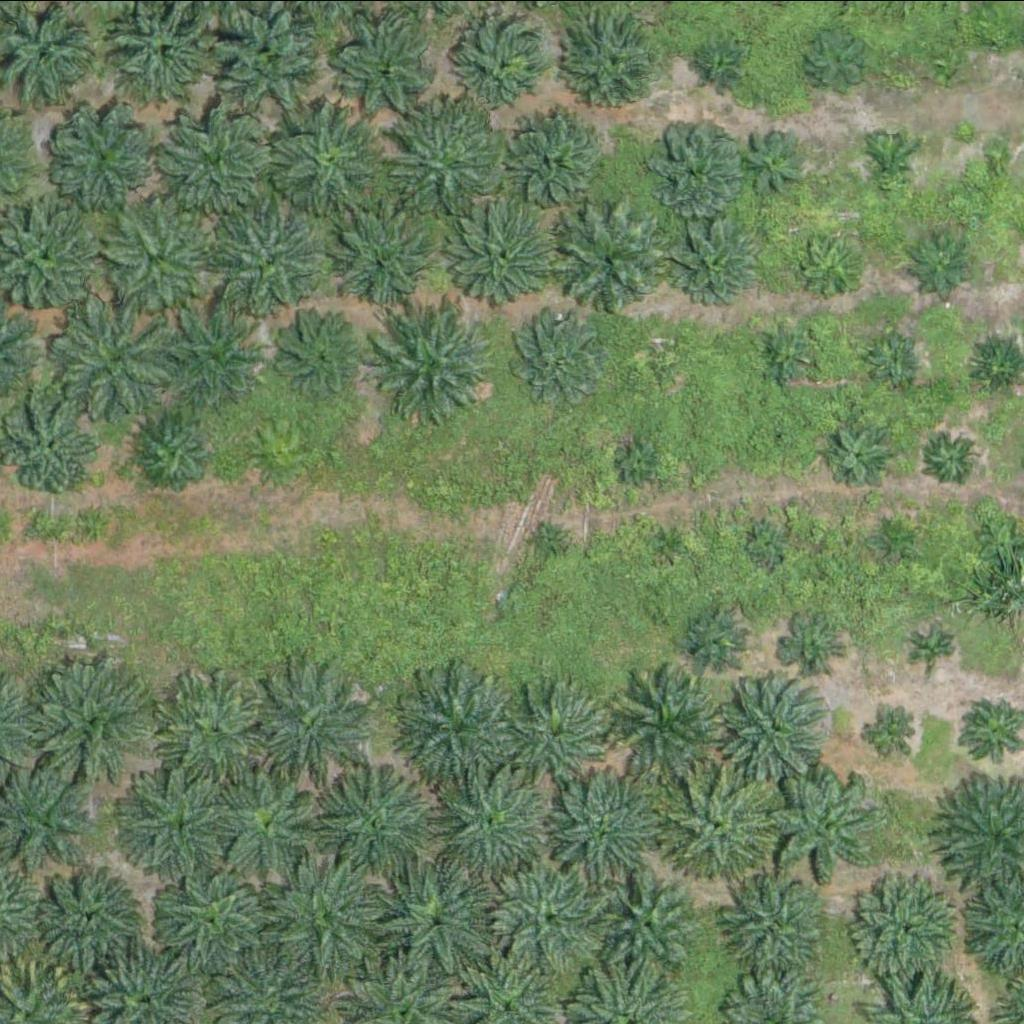Kelapa_Sawit: (23, 661, 149, 786), (49, 299, 175, 424), (115, 760, 241, 885), (151, 853, 277, 978), (153, 666, 279, 791), (274, 856, 400, 981), (377, 862, 503, 987), (499, 854, 625, 979), (550, 767, 676, 892), (436, 759, 562, 884), (315, 764, 441, 889), (253, 662, 379, 787), (398, 666, 524, 791), (618, 655, 744, 780), (369, 306, 495, 431), (384, 94, 509, 219), (42, 98, 155, 211), (552, 207, 665, 320), (157, 103, 270, 216), (270, 103, 383, 216), (208, 5, 321, 118), (765, 765, 878, 878), (851, 876, 964, 989), (108, 199, 221, 311), (159, 298, 272, 410), (215, 203, 328, 315), (448, 201, 561, 313), (725, 669, 838, 781), (660, 765, 773, 877), (34, 871, 135, 971), (513, 680, 614, 780), (508, 310, 609, 410), (336, 207, 437, 307), (508, 109, 609, 209), (336, 19, 437, 119), (453, 17, 554, 117), (566, 19, 667, 119), (643, 114, 744, 214), (727, 873, 828, 973), (4, 395, 104, 495), (223, 773, 323, 873), (609, 882, 698, 969), (273, 311, 361, 398), (676, 214, 764, 301), (138, 414, 214, 489), (799, 25, 874, 100), (781, 616, 844, 679), (683, 606, 746, 669), (911, 232, 974, 295), (756, 323, 819, 386), (825, 427, 888, 489), (738, 131, 801, 193), (801, 233, 864, 295), (871, 702, 922, 752), (861, 137, 912, 187), (927, 432, 977, 482), (868, 338, 918, 388), (929, 42, 967, 80), (747, 526, 785, 564), (649, 522, 687, 560), (530, 521, 568, 559), (873, 519, 911, 557), (705, 44, 742, 82), (643, 336, 680, 374), (623, 441, 661, 478), (918, 629, 955, 666), (982, 144, 1007, 169), (773, 422, 798, 447)
